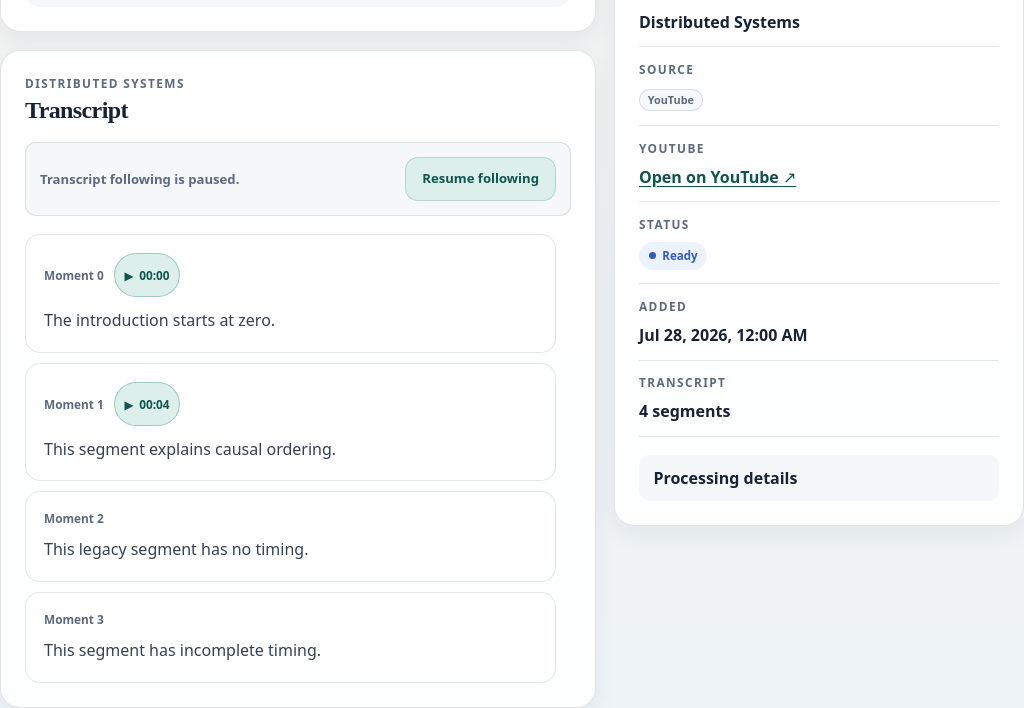
Test: Study YouTube player and transcript seek › suspends on manual transcript reading and explicit Play segment restores following
(page scrolled)
Expected: the button "Resume following" is shown, [405,157,556,201]
Step 1. Click the button named "Play transcript segment from 00:04" → (147, 404), box [114,382,180,426]
(page scrolled)
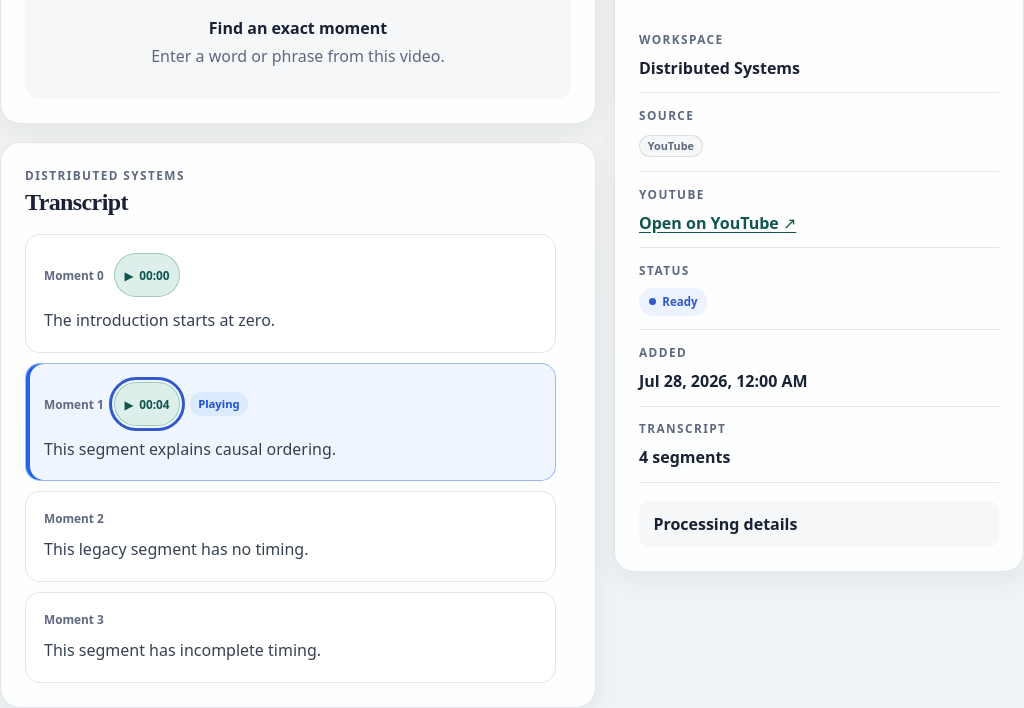
Expected: the list item with aria-label "Currently playing transcript segment" shows "This segment explains causal ordering.", [44,438,336,460]
Expected: the button "Resume following" is gone
